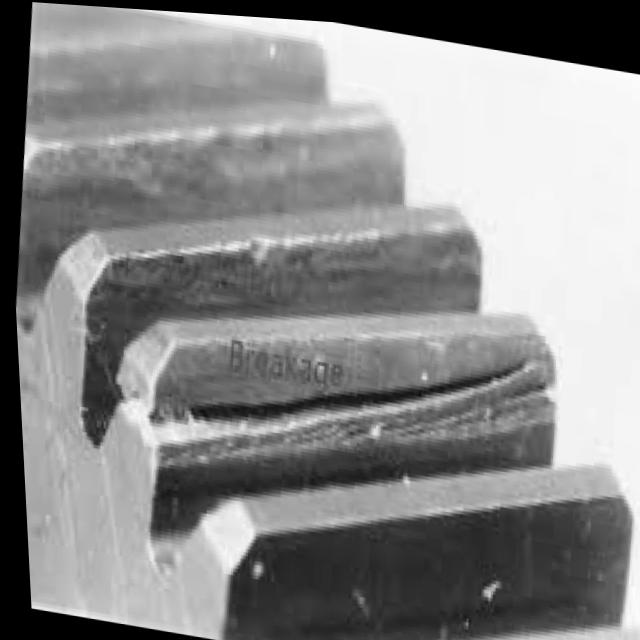Fault-Exist: (130, 300, 585, 524)
No Fault: (35, 35, 507, 291)
